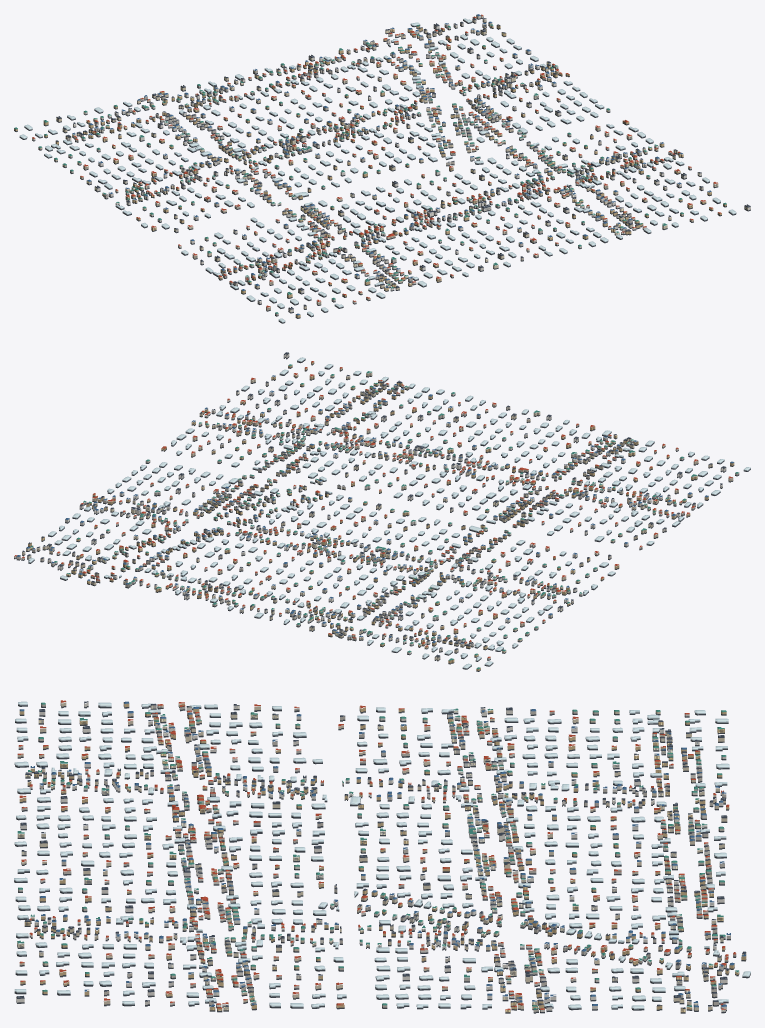
Rendered from osm_buildings_T_E03_N01.glb.
3 views of the same model, one above another, from view 1: azimuth 30°, elevation 25°; view 2: azimuth 150°, elevation 25°; view 3: azimuth 270°, elevation 25° (orthographic). The views are drawn at different scales.
Parts seen in each view (by area): view 1: OSM_T_E03_N01_foundation, OSM_T_E03_N01_greenhouse_blend, OSM_T_E03_N01_wall_cream_stucco, OSM_T_E03_N01_wall_french_ochre, OSM_T_E03_N01_wall_warm_white, OSM_T_E03_N01_wall_pastel_sand, OSM_T_E03_N01_roof_terracotta, OSM_T_E03_N01_roof_mansard_slate, OSM_T_E03_N01_roof_mint_metal, OSM_T_E03_N01_roof_alpine_blue; view 2: OSM_T_E03_N01_foundation, OSM_T_E03_N01_greenhouse_blend, OSM_T_E03_N01_wall_cream_stucco, OSM_T_E03_N01_wall_french_ochre, OSM_T_E03_N01_wall_warm_white, OSM_T_E03_N01_wall_pastel_sand, OSM_T_E03_N01_roof_terracotta, OSM_T_E03_N01_roof_mansard_slate, OSM_T_E03_N01_roof_mint_metal, OSM_T_E03_N01_roof_alpine_blue; view 3: OSM_T_E03_N01_foundation, OSM_T_E03_N01_greenhouse_blend, OSM_T_E03_N01_wall_french_ochre, OSM_T_E03_N01_wall_cream_stucco, OSM_T_E03_N01_wall_warm_white, OSM_T_E03_N01_wall_pastel_sand, OSM_T_E03_N01_roof_terracotta, OSM_T_E03_N01_roof_mansard_slate, OSM_T_E03_N01_roof_mint_metal, OSM_T_E03_N01_roof_alpine_blue, OSM_T_E03_N01_roof_mansard_deck.
Boxes of the visible parts, bbox=[...] form: OSM_T_E03_N01_foundation: bbox=[14, 17, 750, 323]; OSM_T_E03_N01_greenhouse_blend: bbox=[19, 18, 736, 322]; OSM_T_E03_N01_wall_cream_stucco: bbox=[38, 19, 718, 310]; OSM_T_E03_N01_wall_french_ochre: bbox=[14, 25, 726, 317]; OSM_T_E03_N01_wall_warm_white: bbox=[32, 15, 750, 312]; OSM_T_E03_N01_wall_pastel_sand: bbox=[62, 16, 703, 315]; OSM_T_E03_N01_roof_terracotta: bbox=[32, 14, 721, 307]; OSM_T_E03_N01_roof_mansard_slate: bbox=[56, 18, 750, 309]; OSM_T_E03_N01_roof_mint_metal: bbox=[14, 24, 726, 313]; OSM_T_E03_N01_roof_alpine_blue: bbox=[72, 14, 711, 315]; OSM_T_E03_N01_foundation: bbox=[14, 356, 750, 671]; OSM_T_E03_N01_greenhouse_blend: bbox=[28, 357, 750, 668]; OSM_T_E03_N01_wall_cream_stucco: bbox=[22, 367, 733, 660]; OSM_T_E03_N01_wall_french_ochre: bbox=[28, 361, 734, 670]; OSM_T_E03_N01_wall_warm_white: bbox=[14, 353, 726, 659]; OSM_T_E03_N01_wall_pastel_sand: bbox=[21, 382, 739, 643]; OSM_T_E03_N01_roof_terracotta: bbox=[14, 361, 732, 657]; OSM_T_E03_N01_roof_mansard_slate: bbox=[22, 352, 726, 657]; OSM_T_E03_N01_roof_mint_metal: bbox=[30, 364, 738, 669]; OSM_T_E03_N01_roof_alpine_blue: bbox=[16, 375, 733, 643]; OSM_T_E03_N01_foundation: bbox=[14, 705, 750, 1013]; OSM_T_E03_N01_greenhouse_blend: bbox=[14, 701, 750, 1009]; OSM_T_E03_N01_wall_french_ochre: bbox=[19, 702, 746, 1012]; OSM_T_E03_N01_wall_cream_stucco: bbox=[17, 701, 746, 1010]; OSM_T_E03_N01_wall_warm_white: bbox=[16, 702, 728, 1011]; OSM_T_E03_N01_wall_pastel_sand: bbox=[21, 704, 736, 1012]; OSM_T_E03_N01_roof_terracotta: bbox=[17, 700, 736, 1010]; OSM_T_E03_N01_roof_mansard_slate: bbox=[16, 701, 746, 1008]; OSM_T_E03_N01_roof_mint_metal: bbox=[17, 702, 738, 1009]; OSM_T_E03_N01_roof_alpine_blue: bbox=[19, 701, 745, 1007]; OSM_T_E03_N01_roof_mansard_deck: bbox=[17, 707, 726, 997].
Bounding box in the file's own units: 1899 × 52.03 × 1947.
